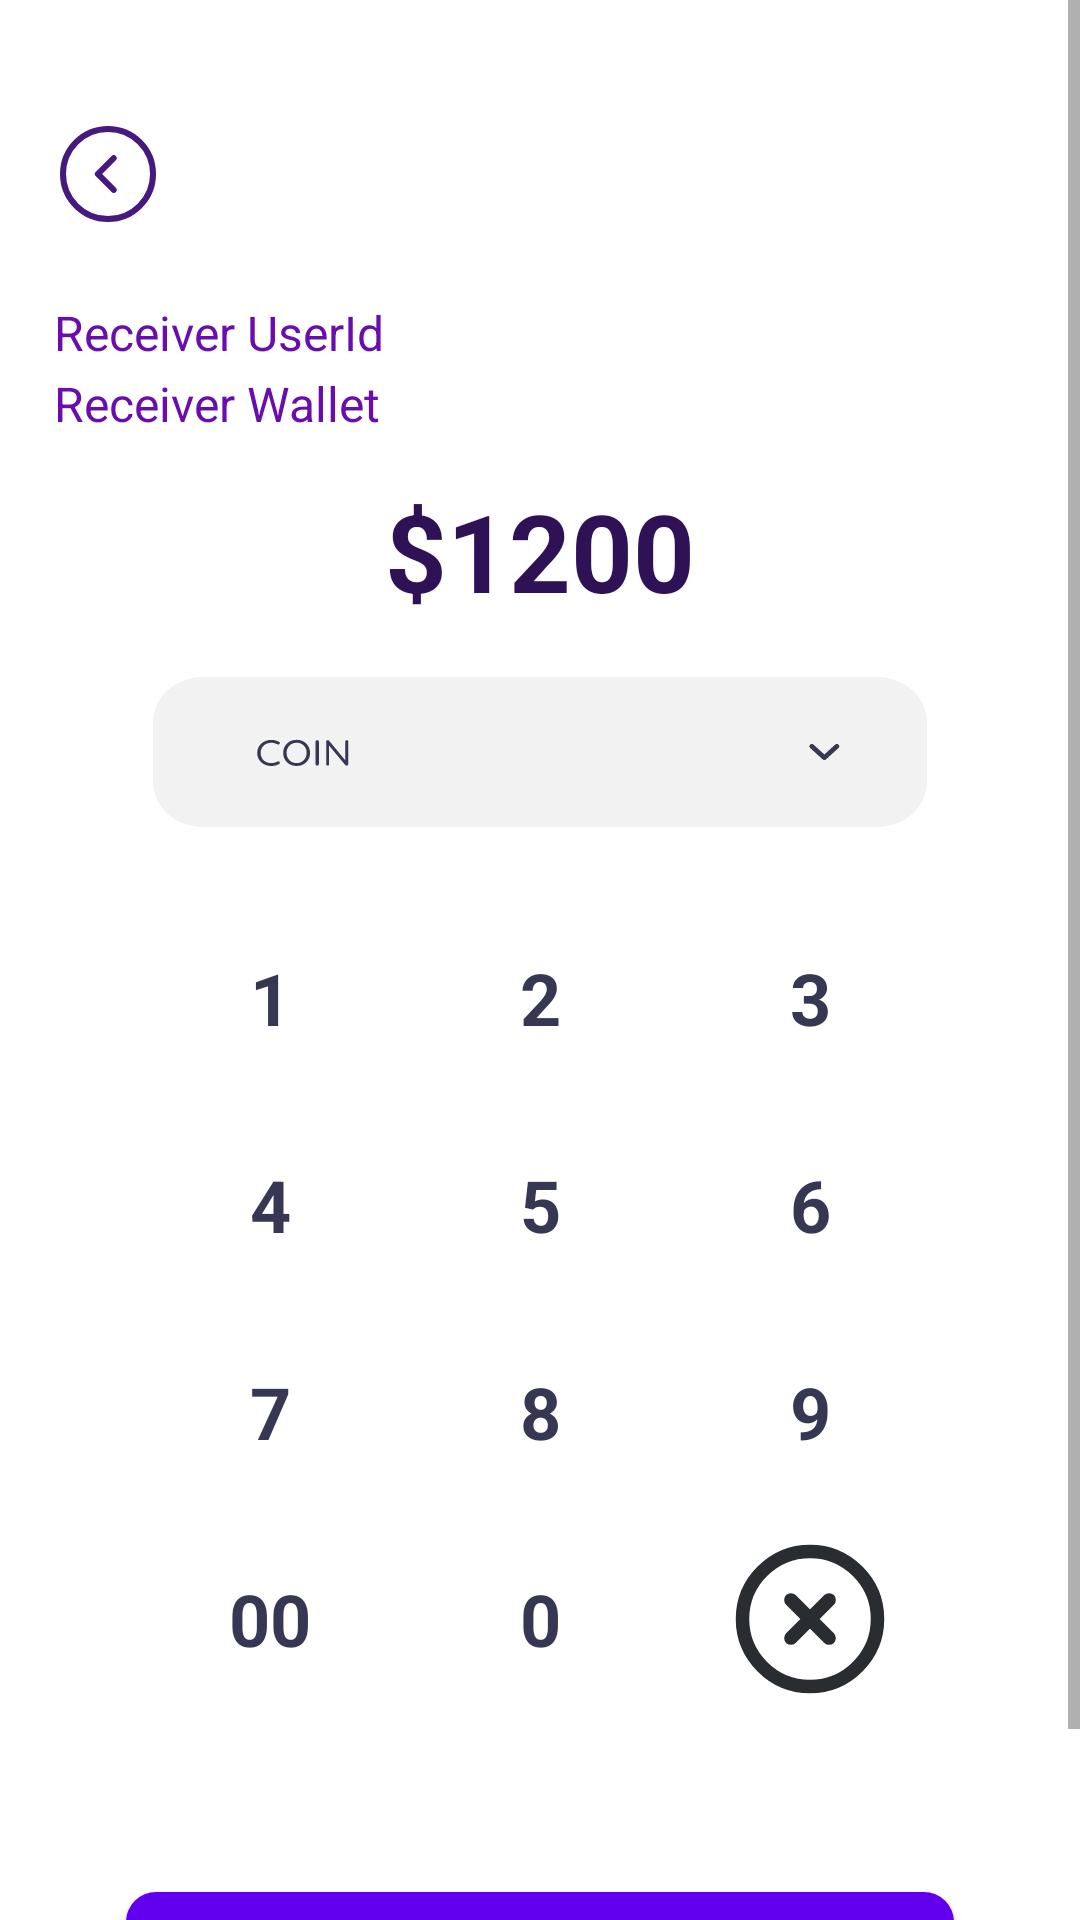

Icon bounding boxes for this 1080x1920 phone screenshot, format (left=x1, top=y1, right=x2, bottom=y2):
Back: (left=60, top=126, right=156, bottom=222)
Delete: (left=735, top=1544, right=885, bottom=1694)
